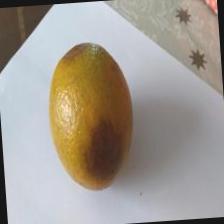Orange Rotten: (35, 36, 148, 200)
